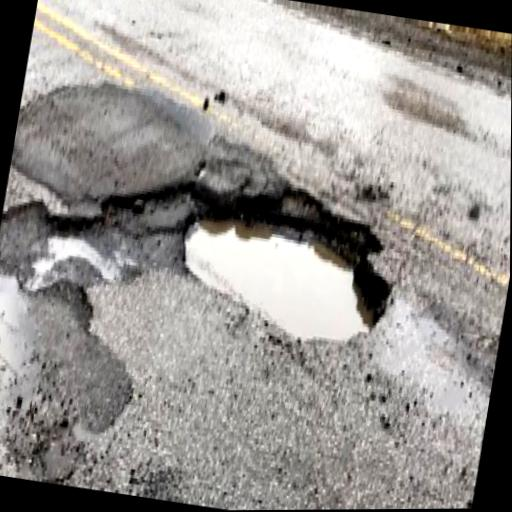pothole: (164, 158, 407, 353), (0, 183, 107, 302)
